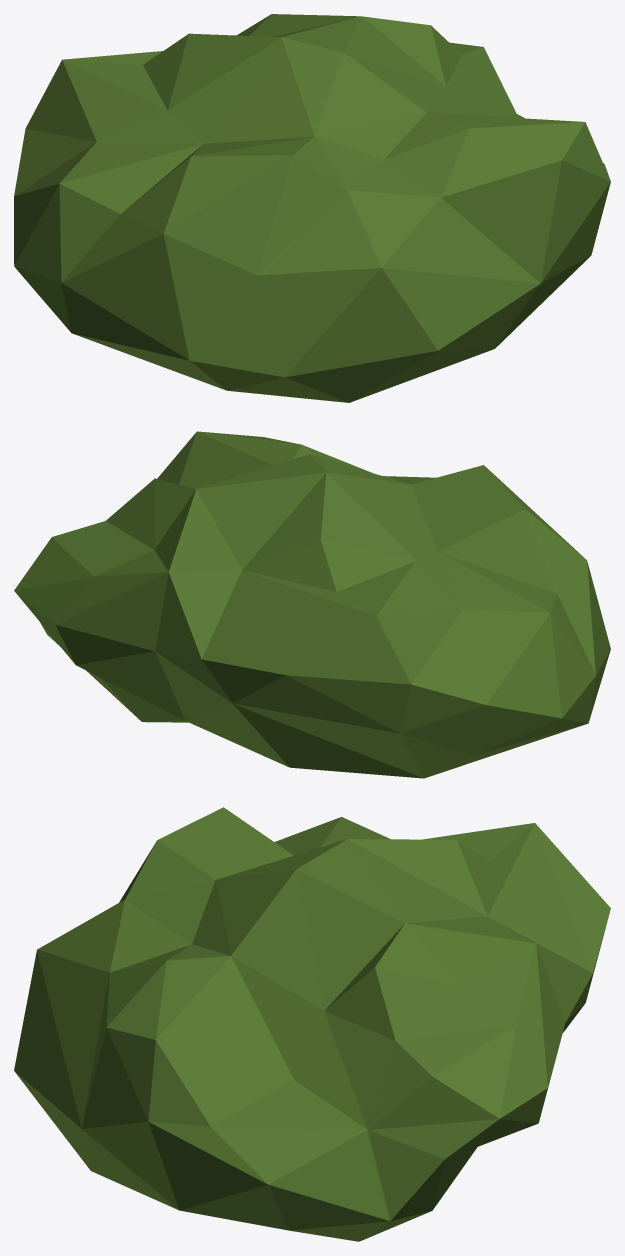
Rendered from Bush.fbx.
3 views of the same model, one above another, from view 1: azimuth 30°, elevation 25°; view 2: azimuth 150°, elevation 25°; view 3: azimuth 270°, elevation 25° (orthographic). The views are drawn at different scales.
Visible parts, largest first — view 1: Bush_1_2_LOD0; view 2: Bush_1_2_LOD0; view 3: Bush_1_2_LOD0.
Part boxes in pixels (box(x1,y1,x2,y2)): Bush_1_2_LOD0: box(14, 14, 610, 402); Bush_1_2_LOD0: box(14, 431, 610, 778); Bush_1_2_LOD0: box(14, 807, 610, 1241).
Size of the model in its own units: 236 by 119 by 203.
